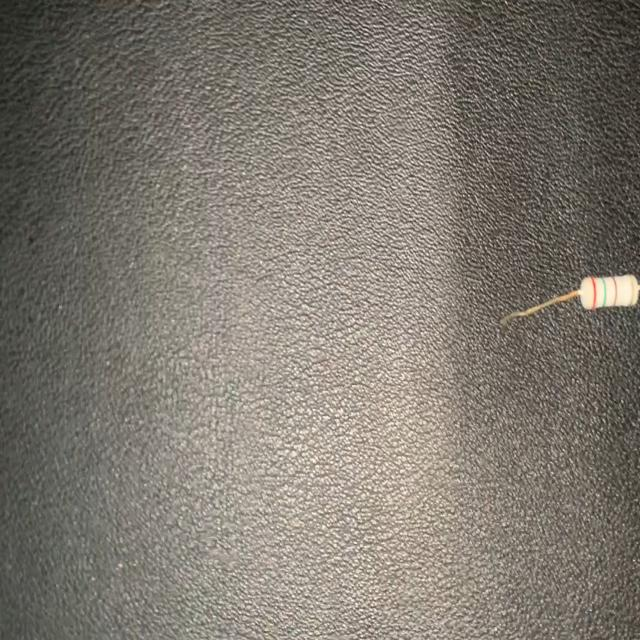resistor: (501, 273, 640, 326)
